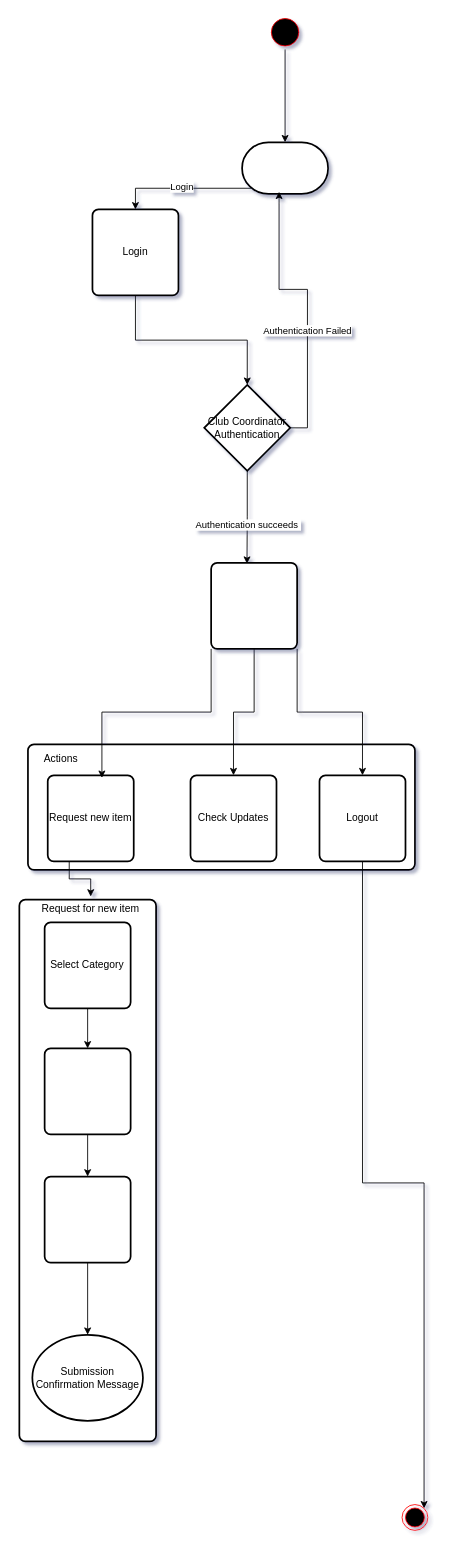
Image size: 452x1551. Some labels were removed from this diagram. The centre of each missing label's shape, as x and y in pixels:
Confirm Submission: (87,1219)
Dashboard: (254,605)
Enter Description: (87,1091)
Idle: (285,167)
